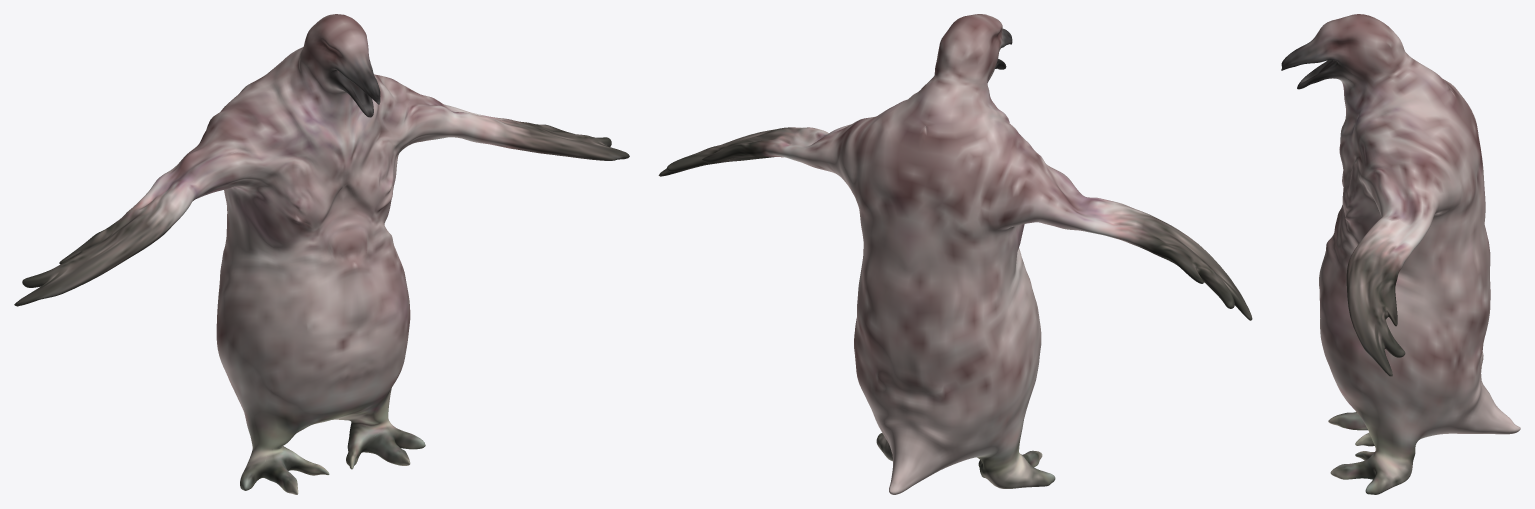
The picture shows the model from 3 angles, left to right: view 1: azimuth 30°, elevation 25°; view 2: azimuth 150°, elevation 25°; view 3: azimuth 270°, elevation 25°; orthographic projection. The views are drawn at different scales.
Parts seen in each view (by area): view 1: PolySphere2; view 2: PolySphere2; view 3: PolySphere2.
Boxes of the visible parts, <box> form: PolySphere2: <box>14,14,629,494</box>; PolySphere2: <box>658,14,1252,494</box>; PolySphere2: <box>1281,14,1520,494</box>.
Size of the model in its own units: 258 by 184 by 90.78.
